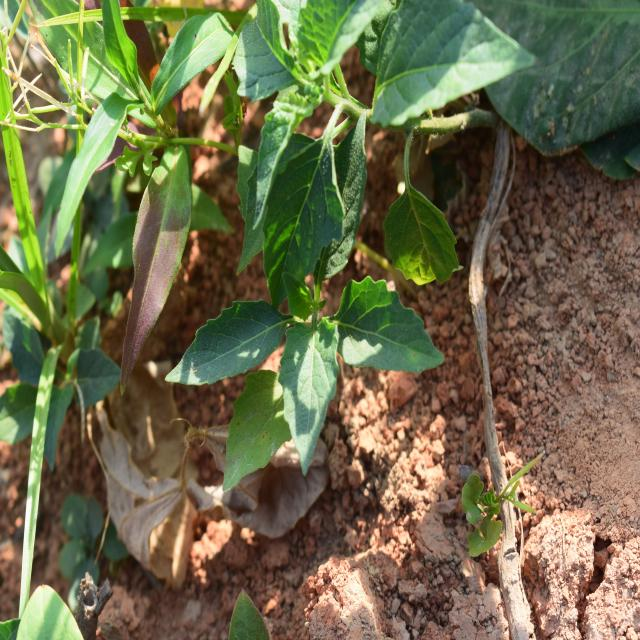Black_nightshade: (176, 142, 427, 450), (217, 0, 510, 245)
